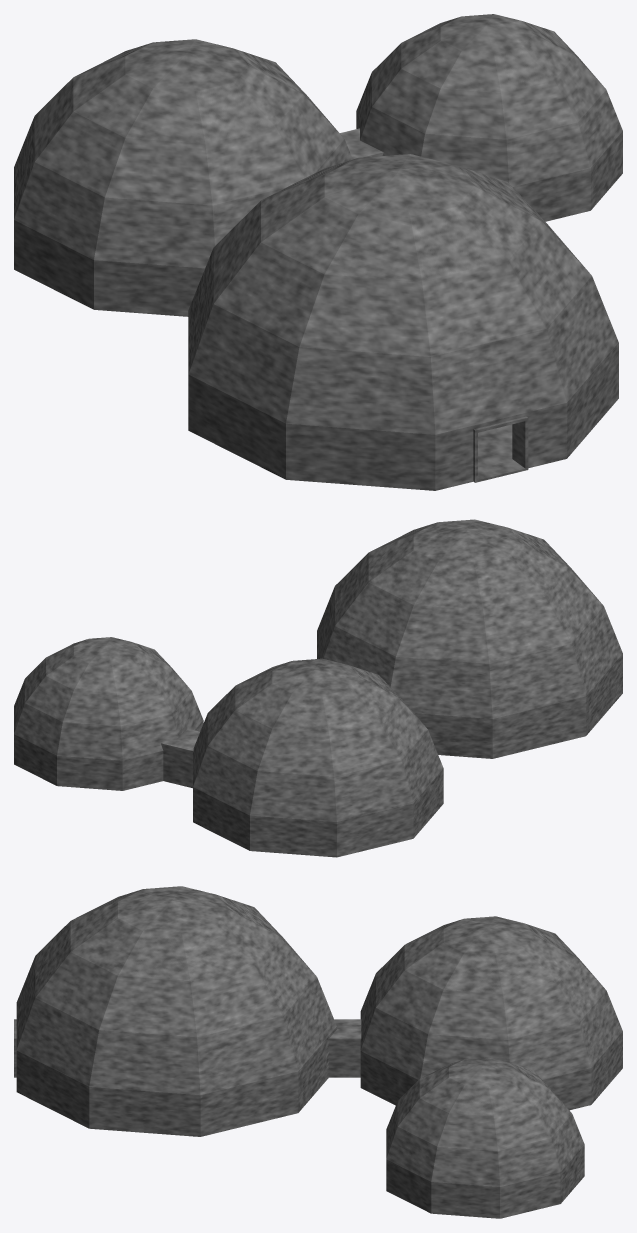
File: kopula.glb
3 views of the same model, one above another, from view 1: azimuth 30°, elevation 25°; view 2: azimuth 150°, elevation 25°; view 3: azimuth 270°, elevation 25° (orthographic). The views are drawn at different scales.
Parts seen in each view (by area): view 1: Sphere.001; view 2: Sphere.001; view 3: Sphere.001.
Boxes of the visible parts, x1,y1,x2,y2 form: Sphere.001: (14, 14, 622, 490); Sphere.001: (14, 519, 622, 857); Sphere.001: (14, 886, 622, 1218).
Bounding box in the file's own units: 26.12 × 9.3 × 30.65.
Materials: 1 (1 with a texture image).
